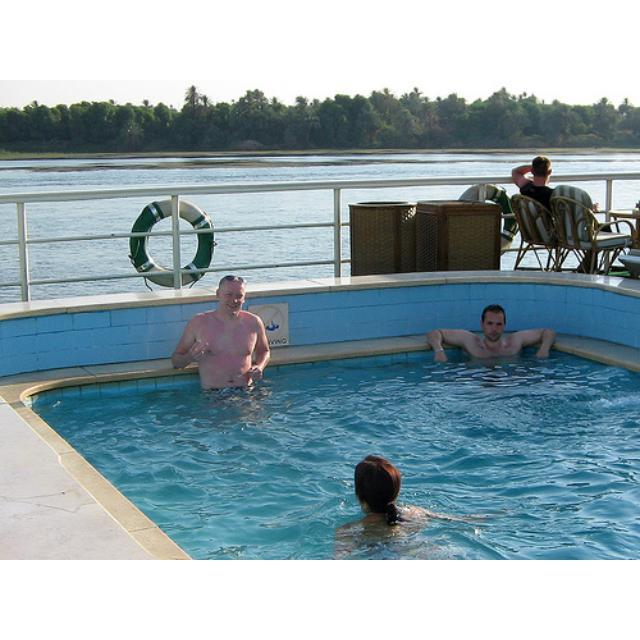human: (328, 454, 475, 557), (175, 277, 276, 401), (428, 303, 562, 363)
